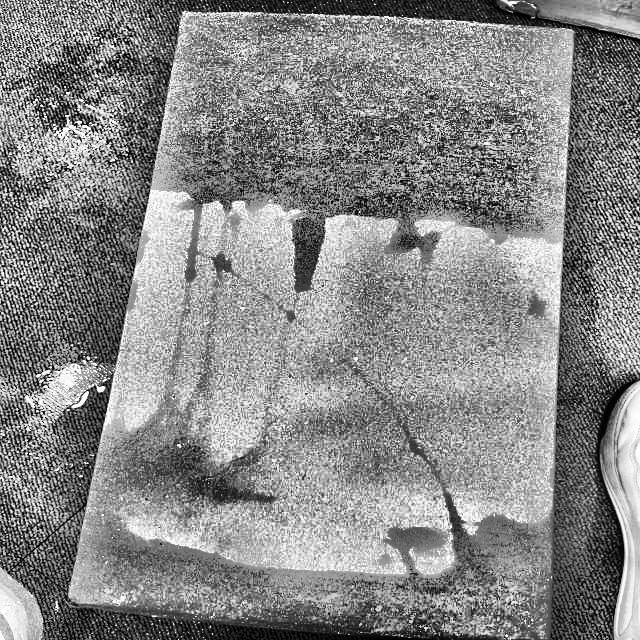box: (60, 7, 583, 639)
wet: (145, 14, 572, 251), (74, 508, 558, 634)
